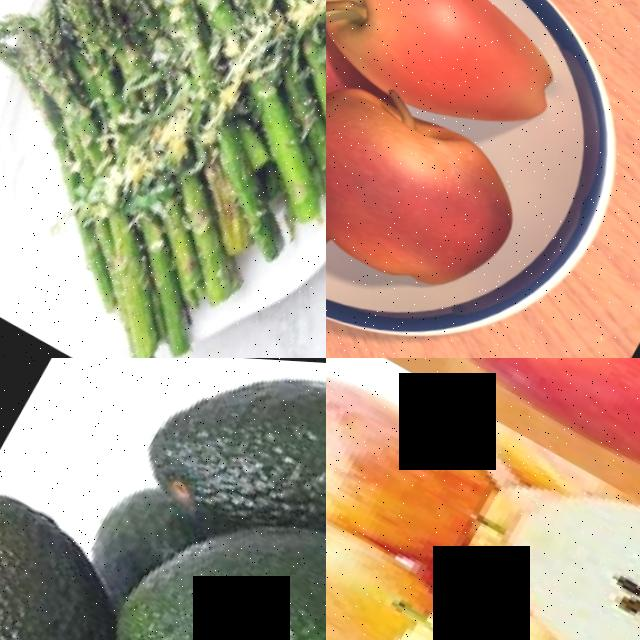apple: (326, 358, 640, 583), (326, 41, 549, 323), (326, 0, 601, 161), (326, 358, 513, 585), (455, 437, 640, 640), (351, 563, 640, 640), (425, 440, 555, 596), (326, 470, 445, 640)
asparagus: (0, 16, 93, 114), (137, 0, 213, 15)
avocado: (128, 358, 326, 595), (0, 468, 186, 640), (156, 485, 326, 640)
